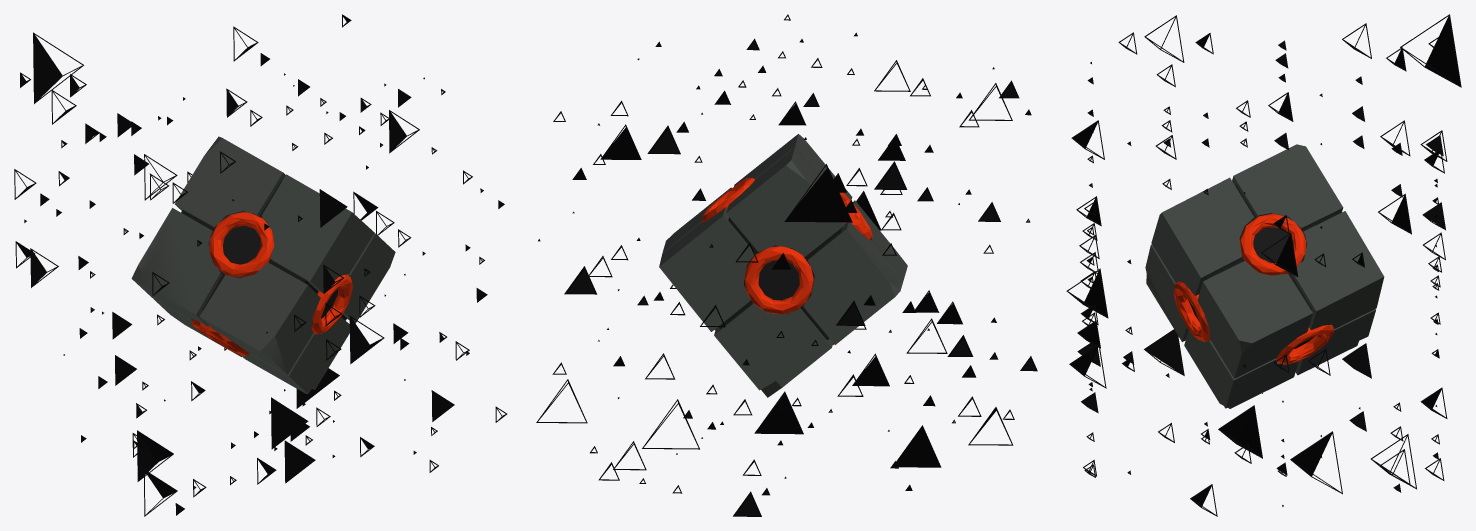
File: Planet26.glb
3 renders of one model, left to right at view 1: azimuth 30°, elevation 25°; view 2: azimuth 150°, elevation 25°; view 3: azimuth 270°, elevation 25°, orthographic. The views are drawn at different scales.
Visible parts, largest first — view 1: Planet_26_fix; view 2: Planet_26_fix; view 3: Planet_26_fix.
Boxes of the visible parts, box(x1,y1,x2,y2) form: Planet_26_fix: box(14, 14, 507, 516); Planet_26_fix: box(536, 14, 1037, 516); Planet_26_fix: box(1066, 14, 1461, 516).
Bounding box in the file's own units: 4.74 × 5.04 × 4.89.
